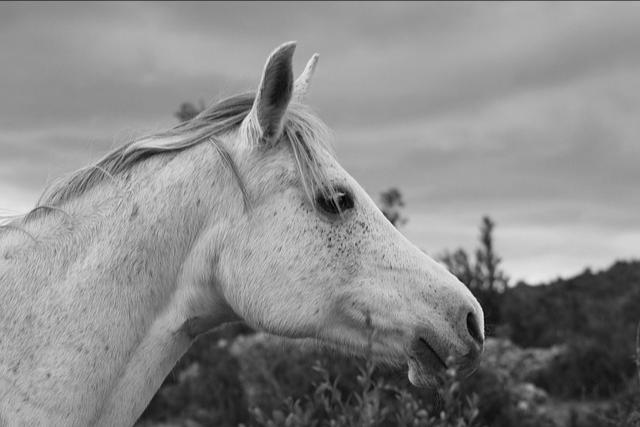Non_Gorille: (30, 28, 549, 424)
